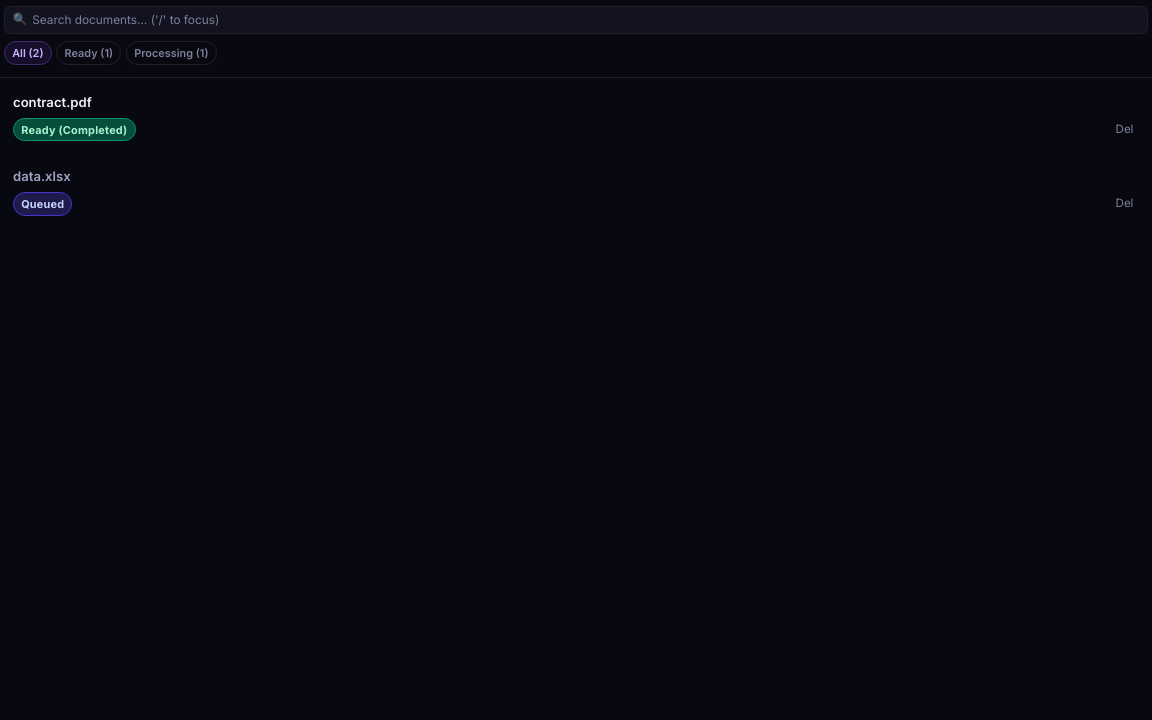
Test: pressing Escape closes the confirmation dialog without deleting
The image size is (1152, 720).
Click the button with aria-label "Delete contract.pdf". click: (1124, 130)
box: x1=1110 y1=118 x2=1139 y2=140
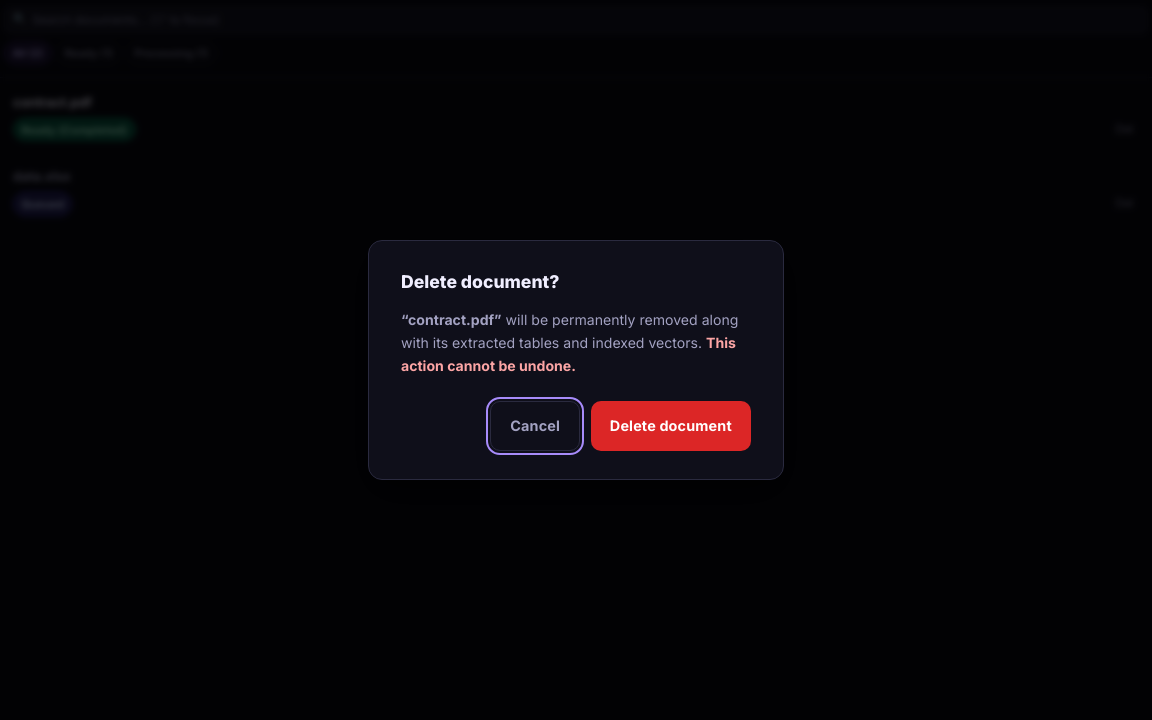
expect the dialog is shown: met, box x1=368 y1=240 x2=784 y2=480
Press Escape
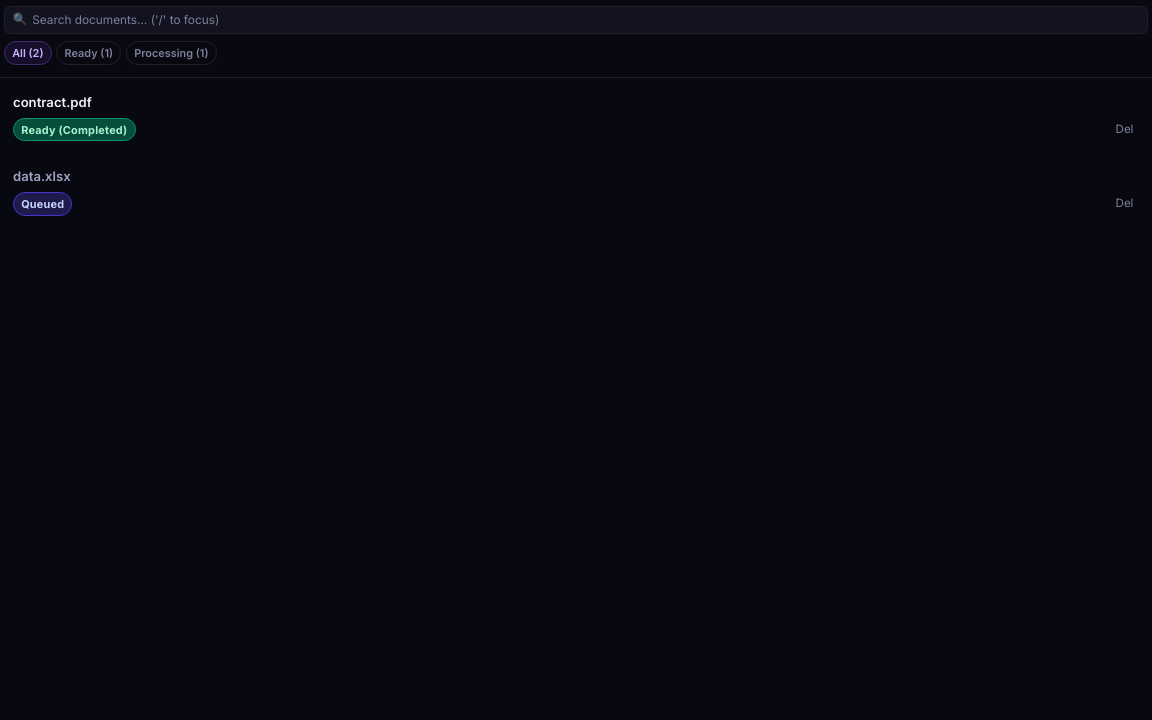
expect the dialog is gone: met
